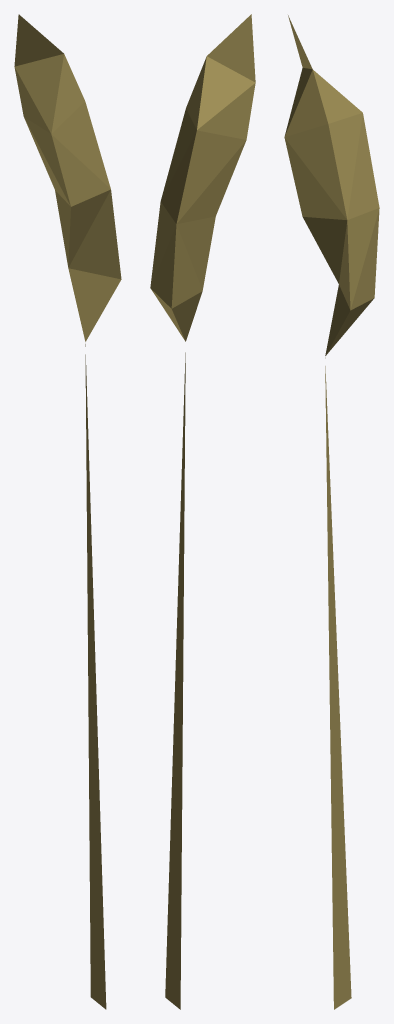
The model's file is C_Wheat_4_lod.glb.
The picture shows the model from 3 angles, left to right: view 1: azimuth 30°, elevation 25°; view 2: azimuth 210°, elevation 25°; view 3: azimuth 330°, elevation 25°; orthographic projection. The views are drawn at different scales.
Visible parts, largest first — view 1: Wheat_4; view 2: Wheat_4; view 3: Wheat_4.
Part boxes in pixels (x1,y1,x2,y2): Wheat_4: [14, 14, 121, 1009]; Wheat_4: [150, 14, 255, 1009]; Wheat_4: [284, 15, 379, 1009].
Bounding box in the file's own units: 0.0852 × 0.948 × 0.0546.
